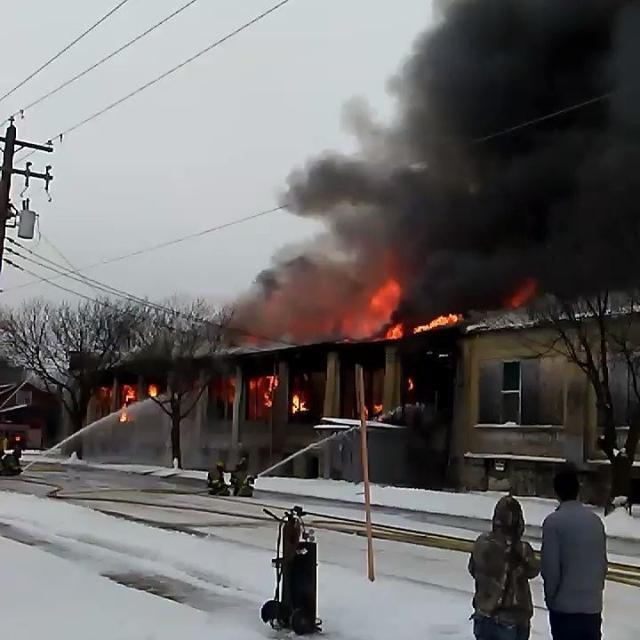Fire: (324, 280, 469, 342), (513, 280, 543, 308), (251, 377, 275, 412), (293, 392, 307, 412), (124, 387, 138, 404), (96, 389, 112, 402), (372, 403, 384, 413), (148, 384, 157, 396), (120, 412, 128, 424), (408, 378, 414, 393)
Smoke: (276, 9, 638, 280)
